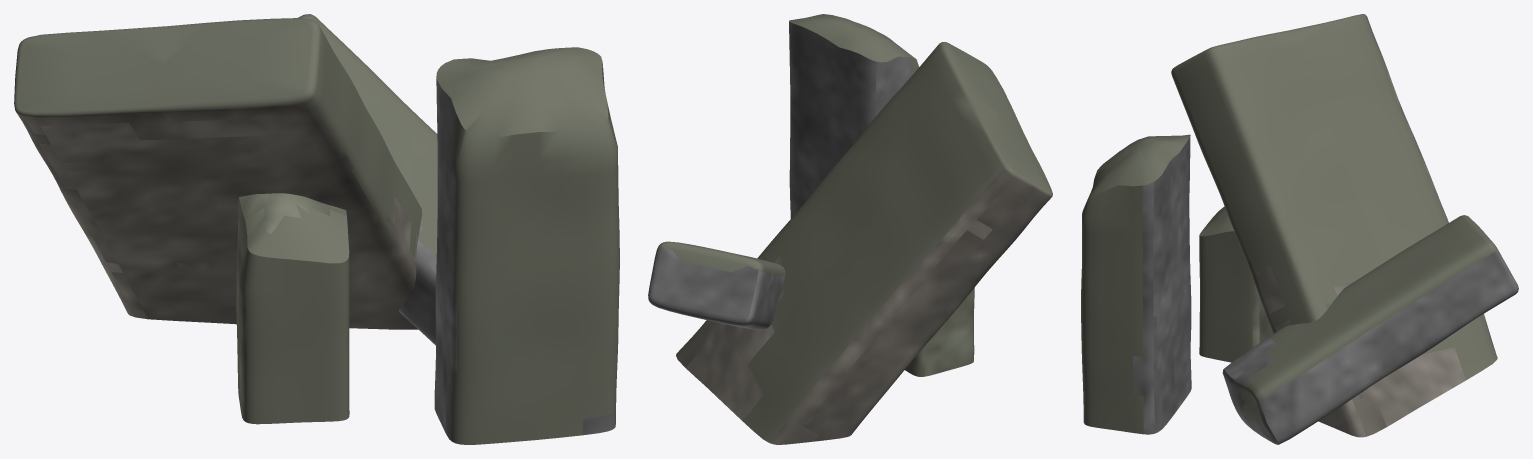
Rendered from AraHenge05.glb.
3 renders of one model, left to right at view 1: azimuth 30°, elevation 25°; view 2: azimuth 150°, elevation 25°; view 3: azimuth 270°, elevation 25°, orthographic. The views are drawn at different scales.
Parts seen in each view (by area): view 1: AraHenge05; view 2: AraHenge05; view 3: AraHenge05.
Boxes of the visible parts, x1=… form: AraHenge05: x1=14, y1=14, x2=619, y2=444; AraHenge05: x1=648, y1=14, x2=1052, y2=444; AraHenge05: x1=1081, y1=14, x2=1518, y2=444.
Size of the model in its own units: 2.98 by 2.23 by 2.97.
2 materials, 1 textured.
